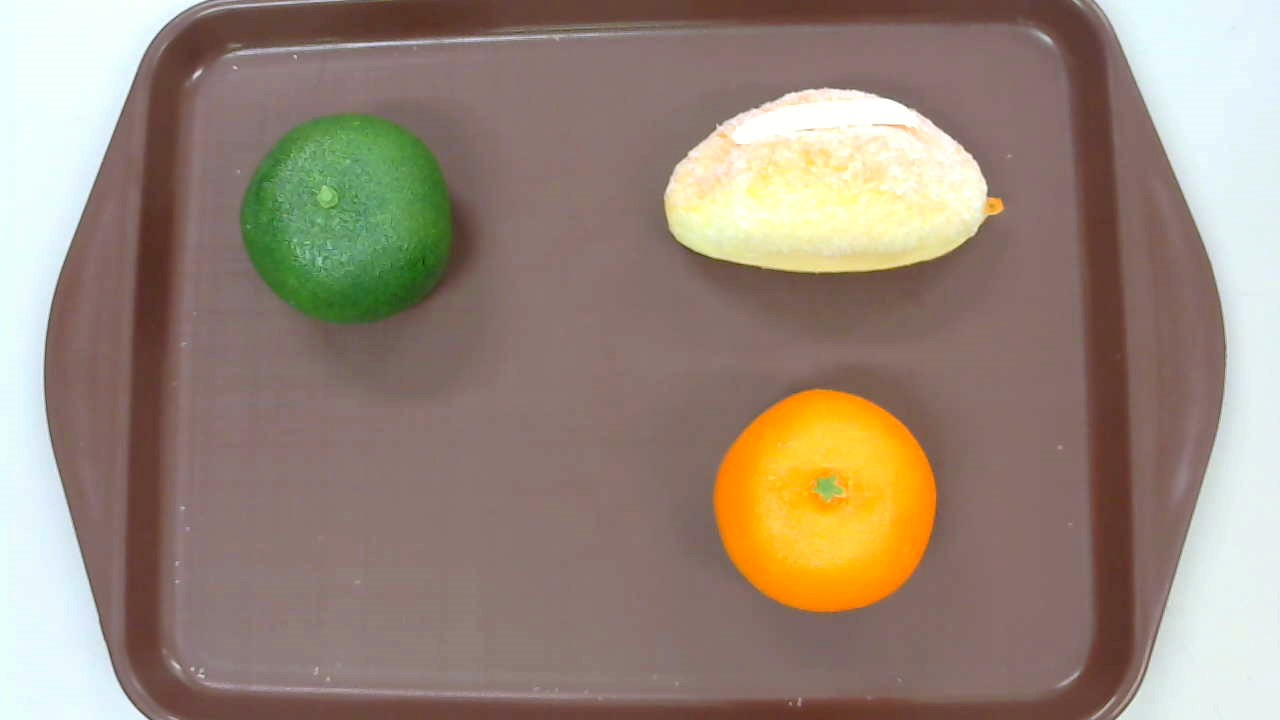coconut: (662, 87, 1005, 275)
green orange: (241, 113, 452, 326)
orange: (711, 387, 937, 613)
